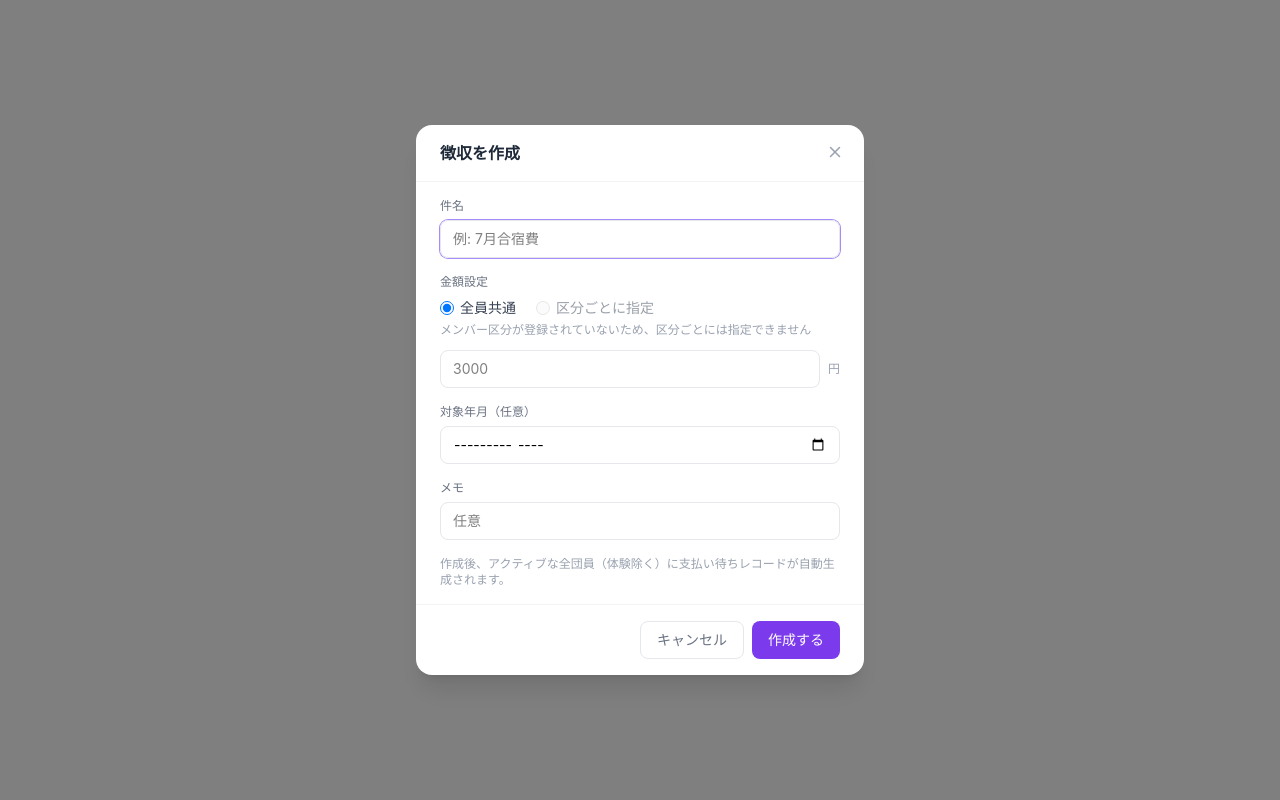
Test: CollectionModal（全員共通モード） › 金額が0以下の場合はエラーを表示する
Type "合宿費" into the field with placeholder "例: 7月合宿費" at (640, 239), box 440,220 -> 840,258
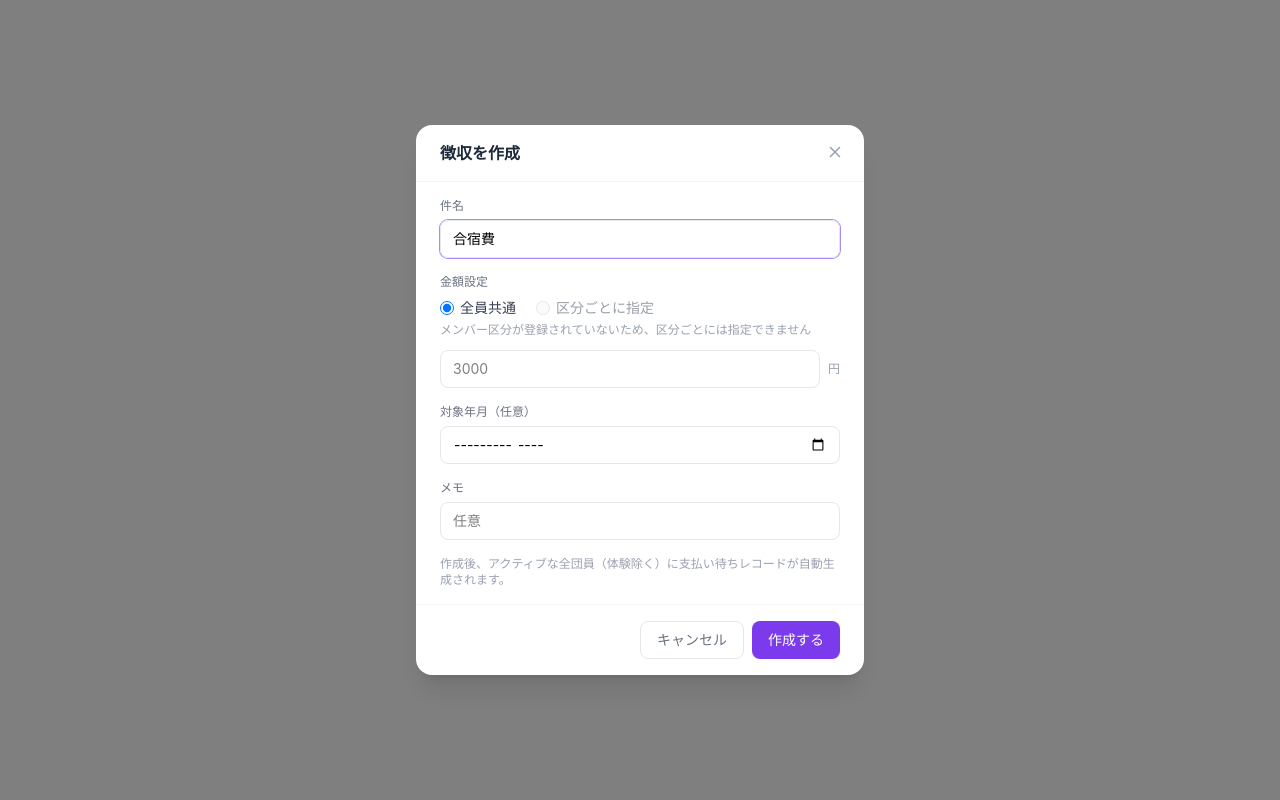
Note: 金額欄はrequiredのHTML5制約でクリック送信がブロックされるため、submitイベントを直接発火してJS側のバリデーションを検証する
Submit the form, box 416,182 -> 864,675
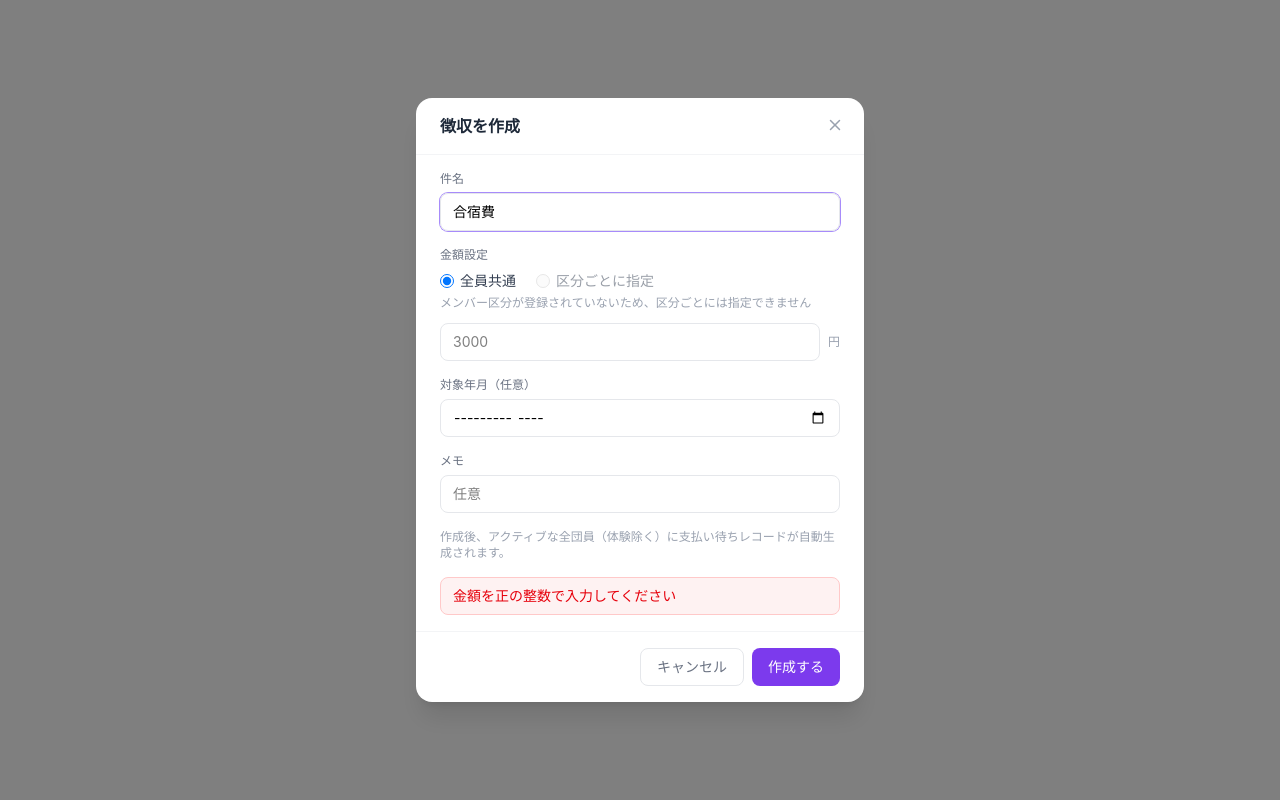
Expected: the text "金額を正の整数で入力してください" is shown, 440,577 -> 840,615
